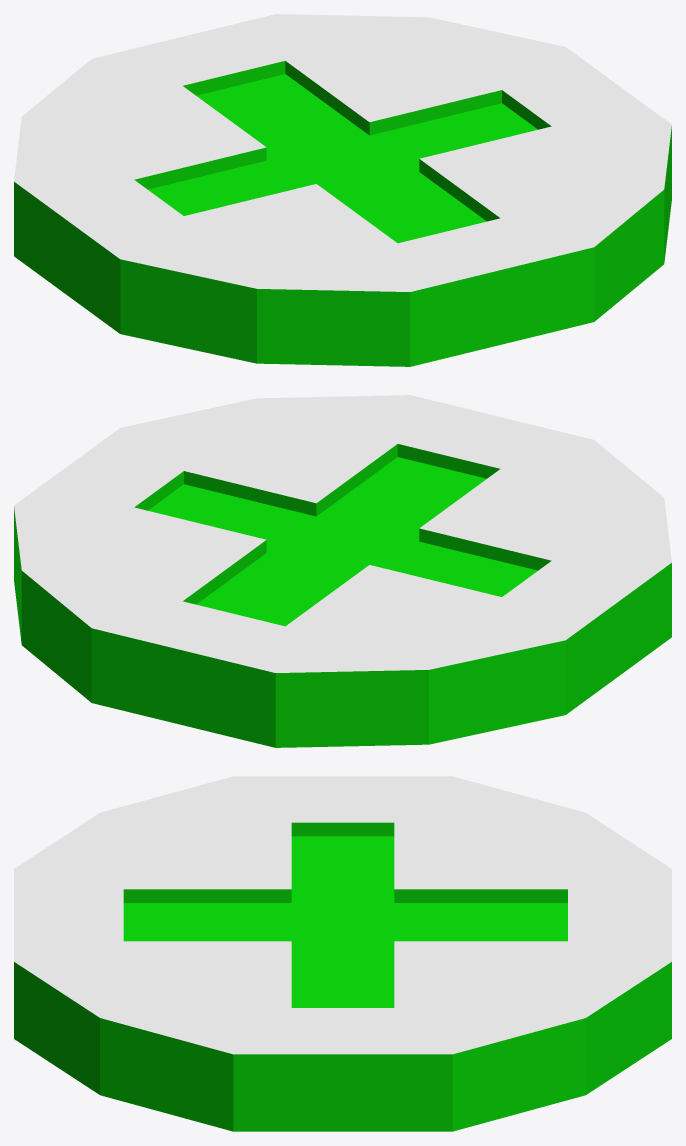
Rendered from Healthpack.fbx.
The picture shows the model from 3 angles, top to bottom: view 1: azimuth 30°, elevation 25°; view 2: azimuth 150°, elevation 25°; view 3: azimuth 270°, elevation 25°; orthographic projection. The views are drawn at different scales.
Parts seen in each view (by area): view 1: Healthpack; view 2: Healthpack; view 3: Healthpack.
Part boxes in pixels (left/top/right/bottom): Healthpack: left=14, top=14, right=671, bottom=366; Healthpack: left=14, top=395, right=671, bottom=747; Healthpack: left=14, top=776, right=671, bottom=1131.
Bounding box in the file's own units: 178 × 23.01 × 178.
